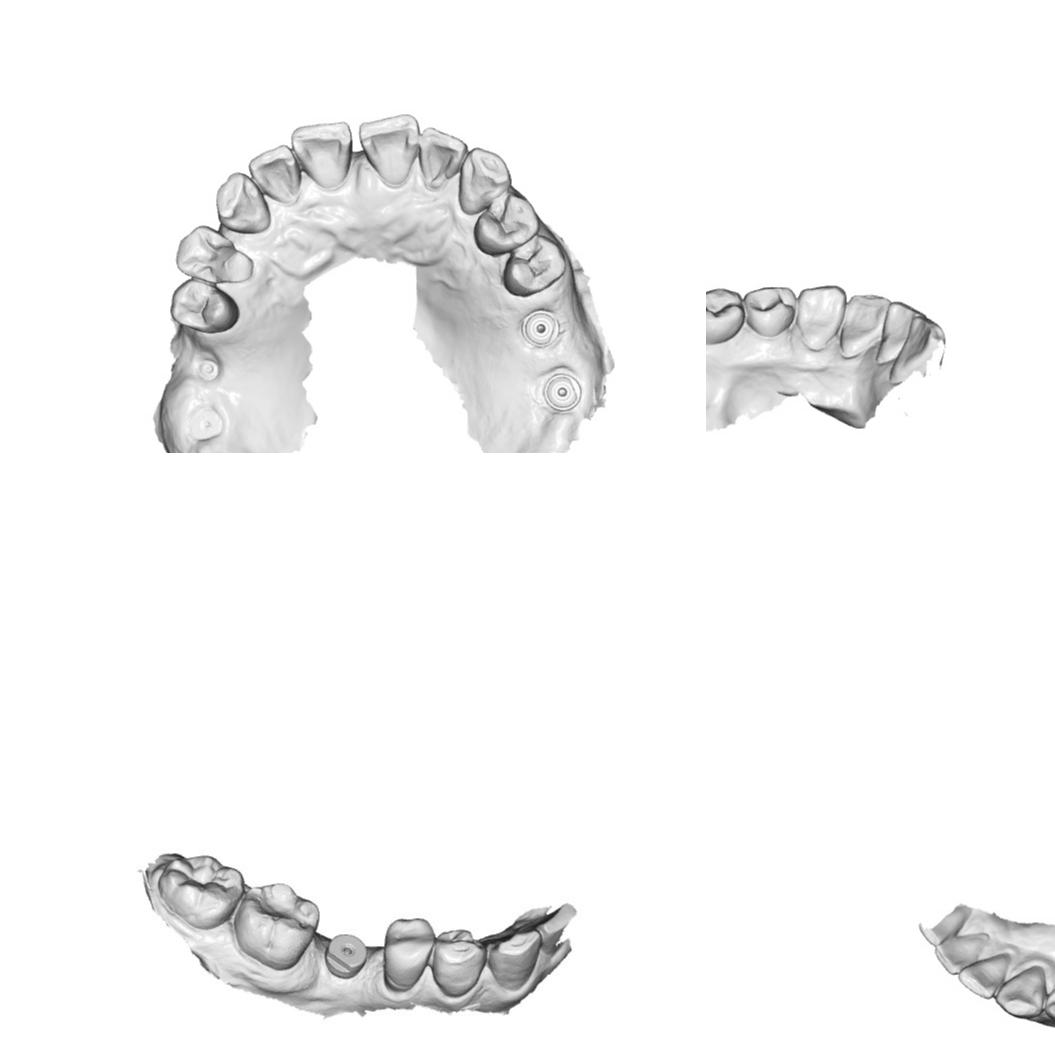canine: (456, 144, 514, 217), (214, 169, 272, 236), (490, 927, 540, 993), (796, 283, 844, 350), (994, 963, 1046, 1022)
implant: (322, 931, 368, 981), (519, 305, 564, 350), (544, 369, 583, 413), (185, 404, 226, 442), (193, 353, 224, 384)
incisor: (357, 112, 420, 189), (289, 118, 354, 192), (888, 315, 946, 391), (246, 142, 302, 206), (415, 125, 469, 191), (837, 289, 890, 352), (931, 928, 993, 976), (874, 300, 921, 361), (956, 950, 1011, 1000), (540, 902, 575, 956)
molar: (228, 878, 323, 972), (157, 850, 239, 930)
premolar: (174, 222, 254, 286), (472, 189, 542, 257), (501, 233, 569, 300), (165, 276, 241, 335), (379, 913, 435, 992), (427, 927, 481, 998), (742, 281, 795, 338), (706, 285, 742, 346), (1041, 972, 1055, 1032)
